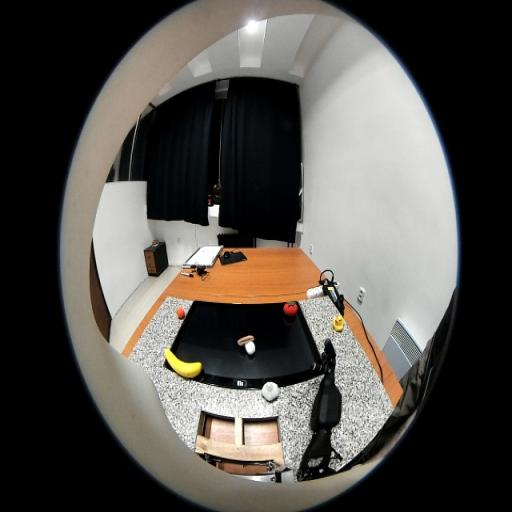Banana: (165, 348, 202, 378)
Duck: (332, 315, 344, 331)
Mushroom: (237, 335, 255, 355)
Onion: (262, 382, 278, 402)
Orange: (177, 307, 185, 319)
RightHand: (324, 357, 336, 377)
Tomato: (283, 301, 298, 316)
